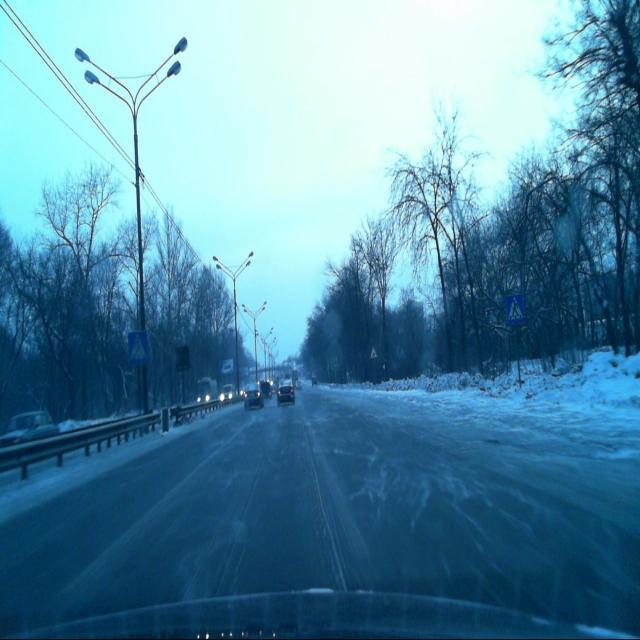object: (127, 330, 150, 366), (518, 331, 522, 390)
road sign: (506, 294, 524, 325)
